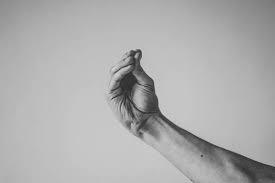Italian-Gesture: (102, 47, 162, 138)
